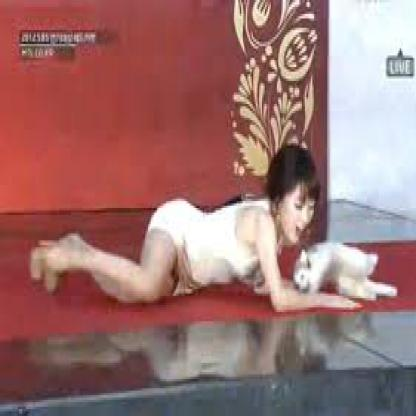Fall_Down: (40, 147, 364, 314)
